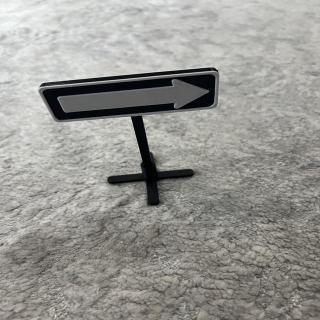sign_oneway_right: (38, 68, 234, 125)
